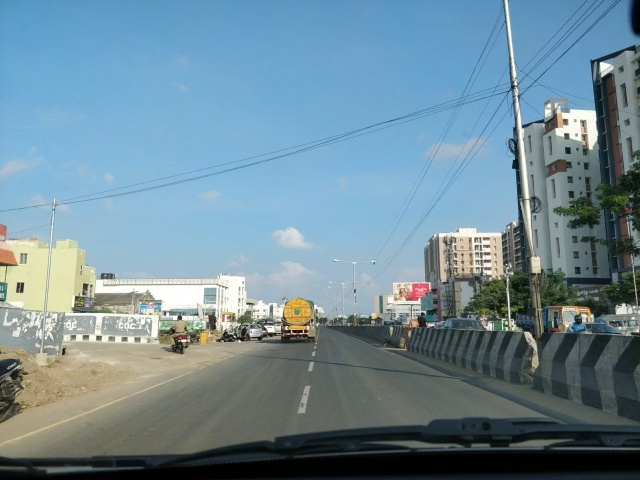car: (226, 314, 267, 342)
motorbike: (0, 357, 25, 421), (168, 311, 190, 358), (562, 313, 591, 341)
truck: (276, 295, 324, 347)
